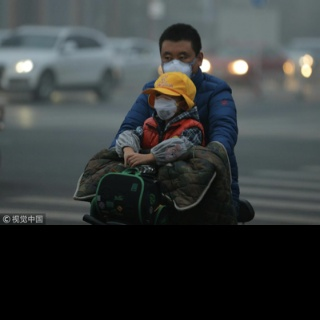with_mask: (161, 48, 196, 82), (152, 92, 179, 120)
